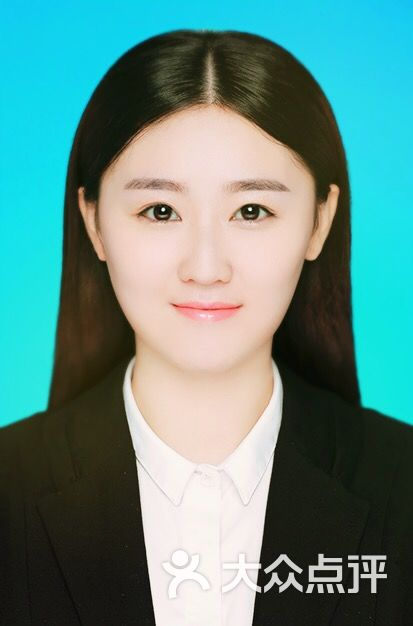unmask: (99, 147, 314, 363)
